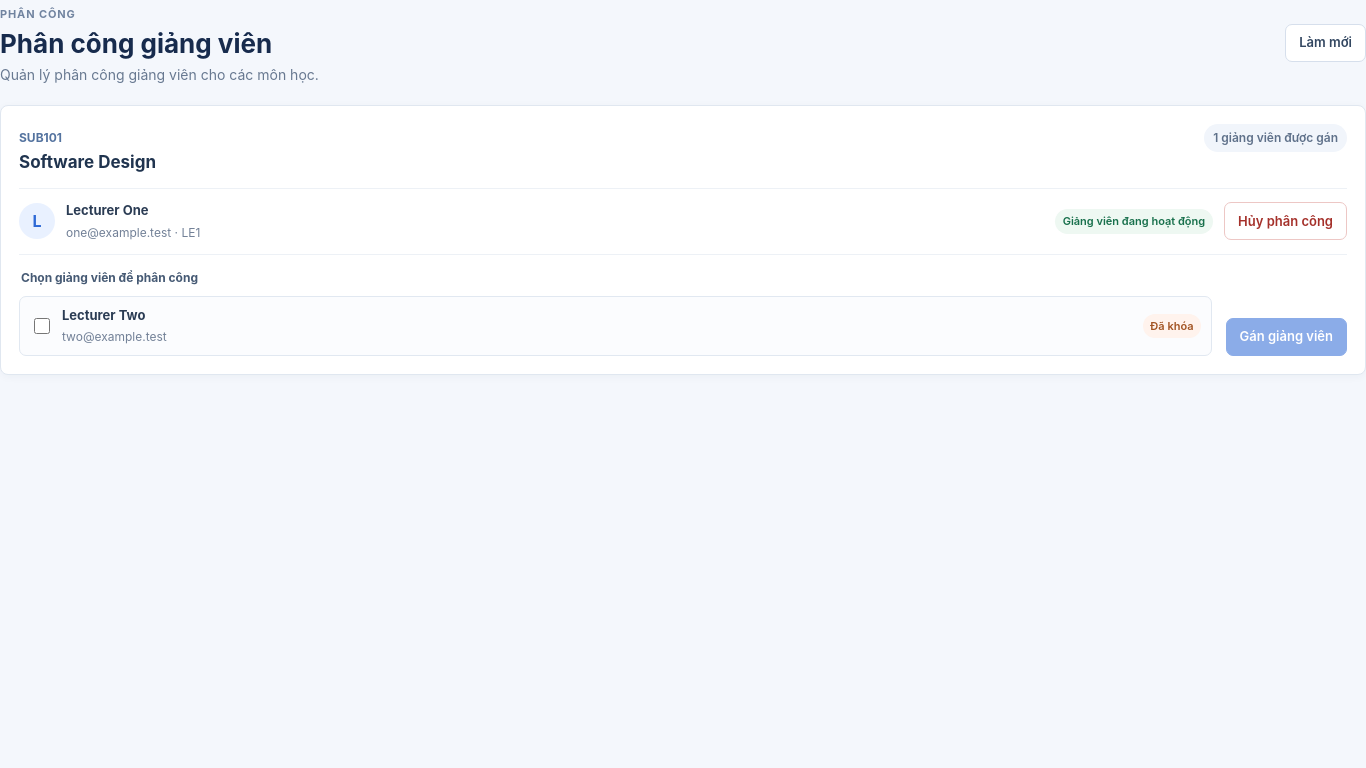
Test: SubjectAssignmentsPage › loads actual subjects and lecturers, batches selected IDs, then applies delete response
The image size is (1366, 768).
Expected: the heading "Software Design" is shown, 19,151 -> 156,174
Expected: the text "Lecturer One" is shown, 66,202 -> 148,218
Click the checkbox labelled "Lecturer Two two@example.test Đã khóa" at (42, 326), box 34,318 -> 50,334
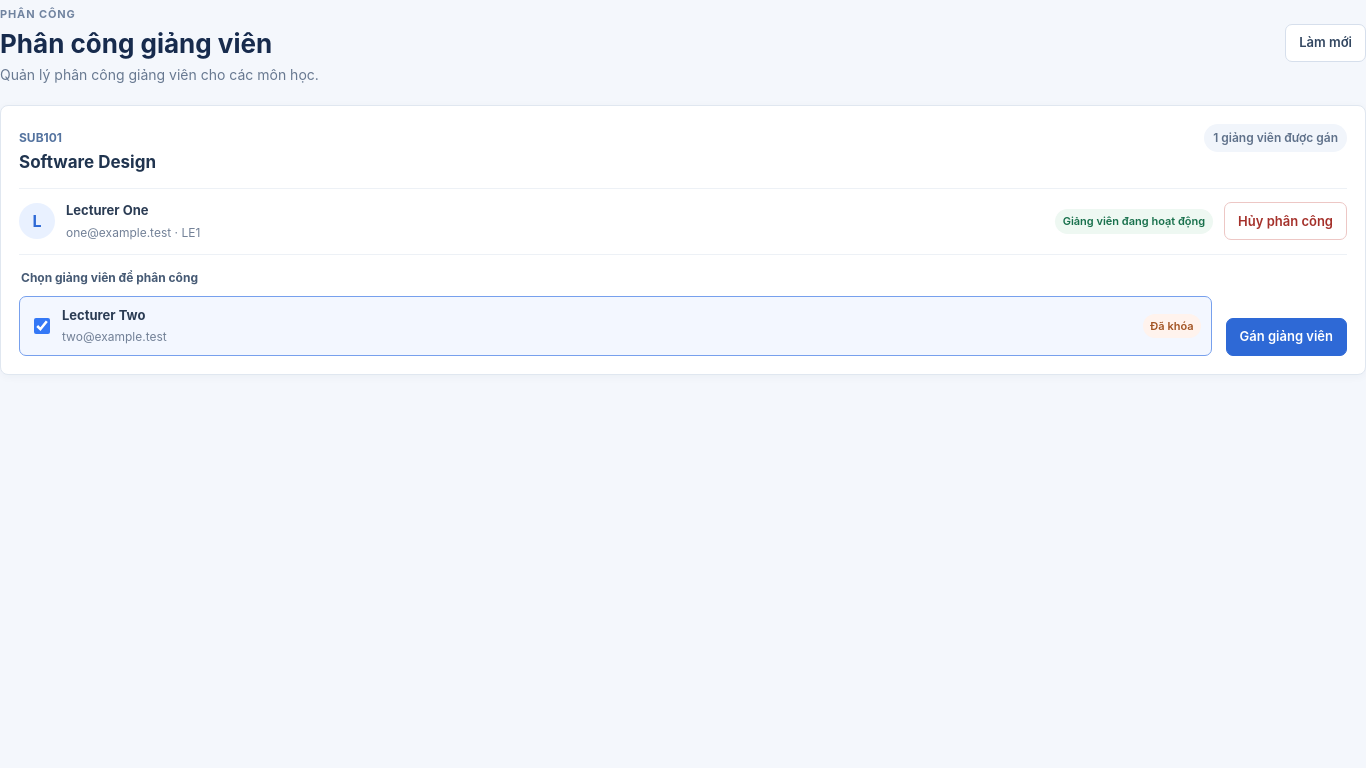
Click the button "Gán giảng viên" at (1286, 337), box 1226,318 -> 1347,356
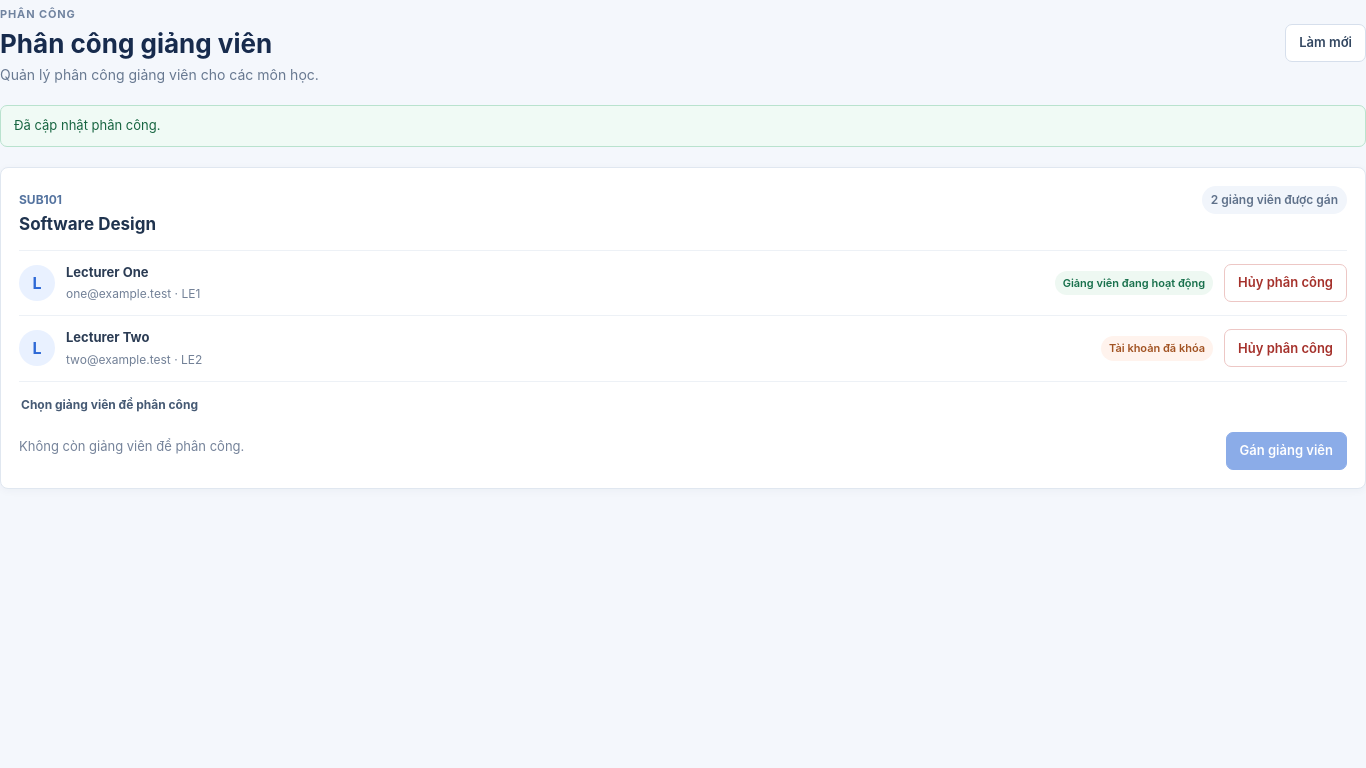
Expected: the text "Lecturer Two" is shown, 66,329 -> 149,345
Click the button "Hủy phân công" next to "Giảng viên đang hoạt động" at (1286, 283), box 1224,264 -> 1347,302
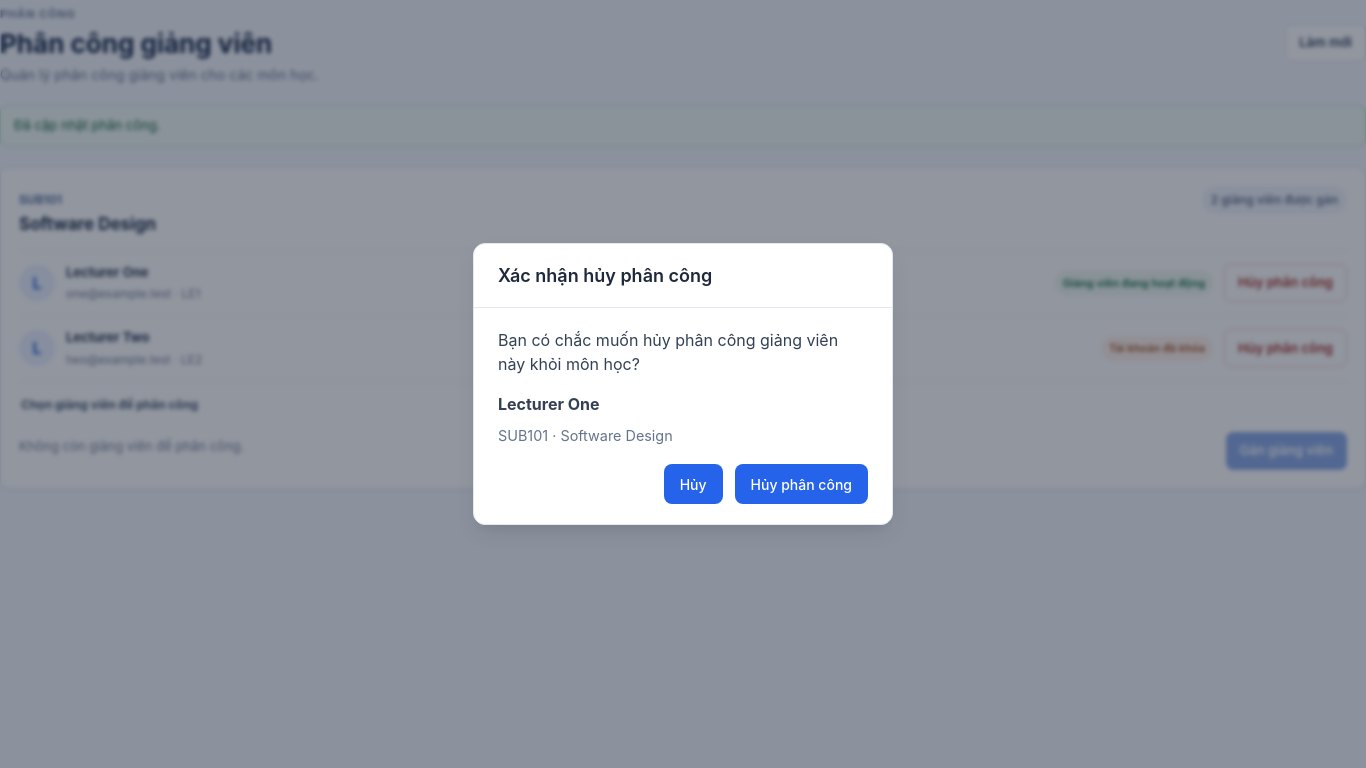
Click the button "Hủy phân công" at (801, 484), box 734,464 -> 868,504
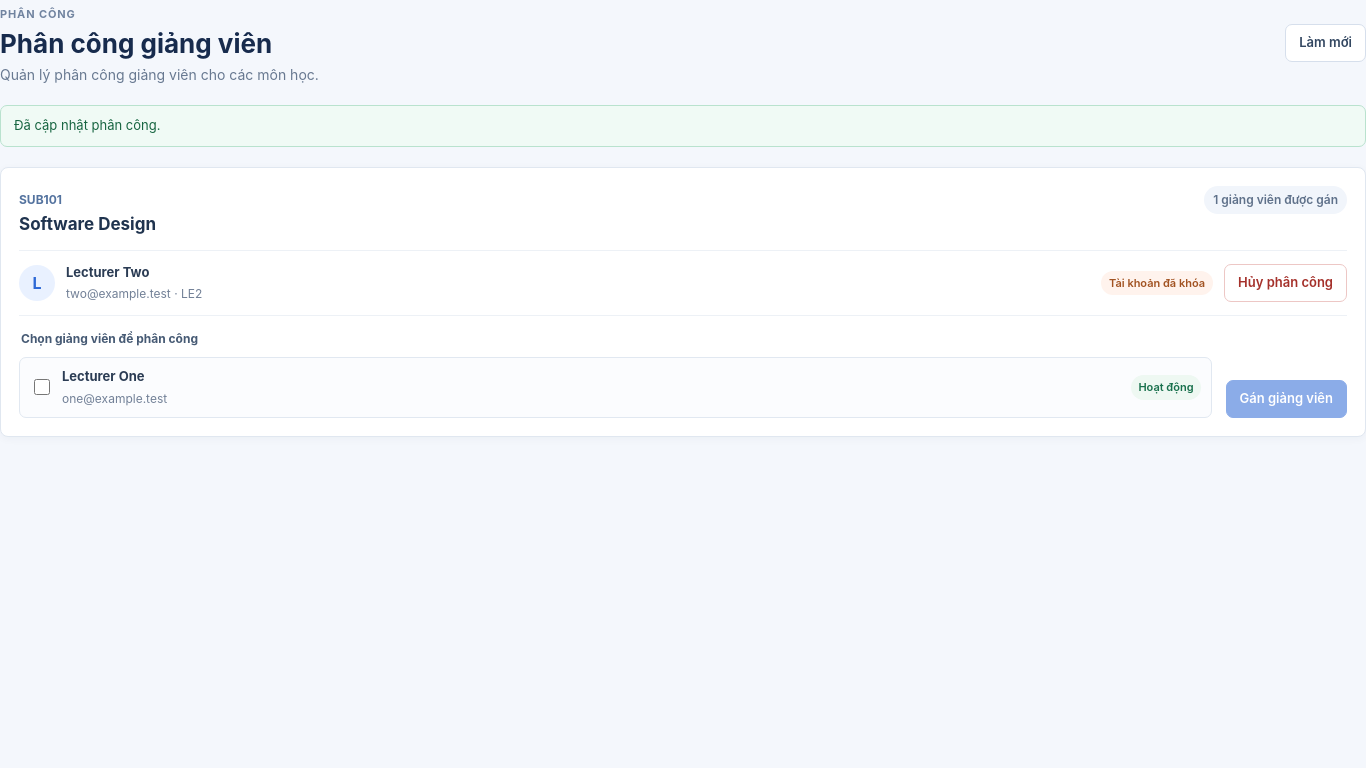
Expected: the text "Lecturer Two" is shown, 66,264 -> 149,280
Expected: the checkbox labelled "Lecturer One one@example.test Hoạt động" is shown, 34,379 -> 50,395
